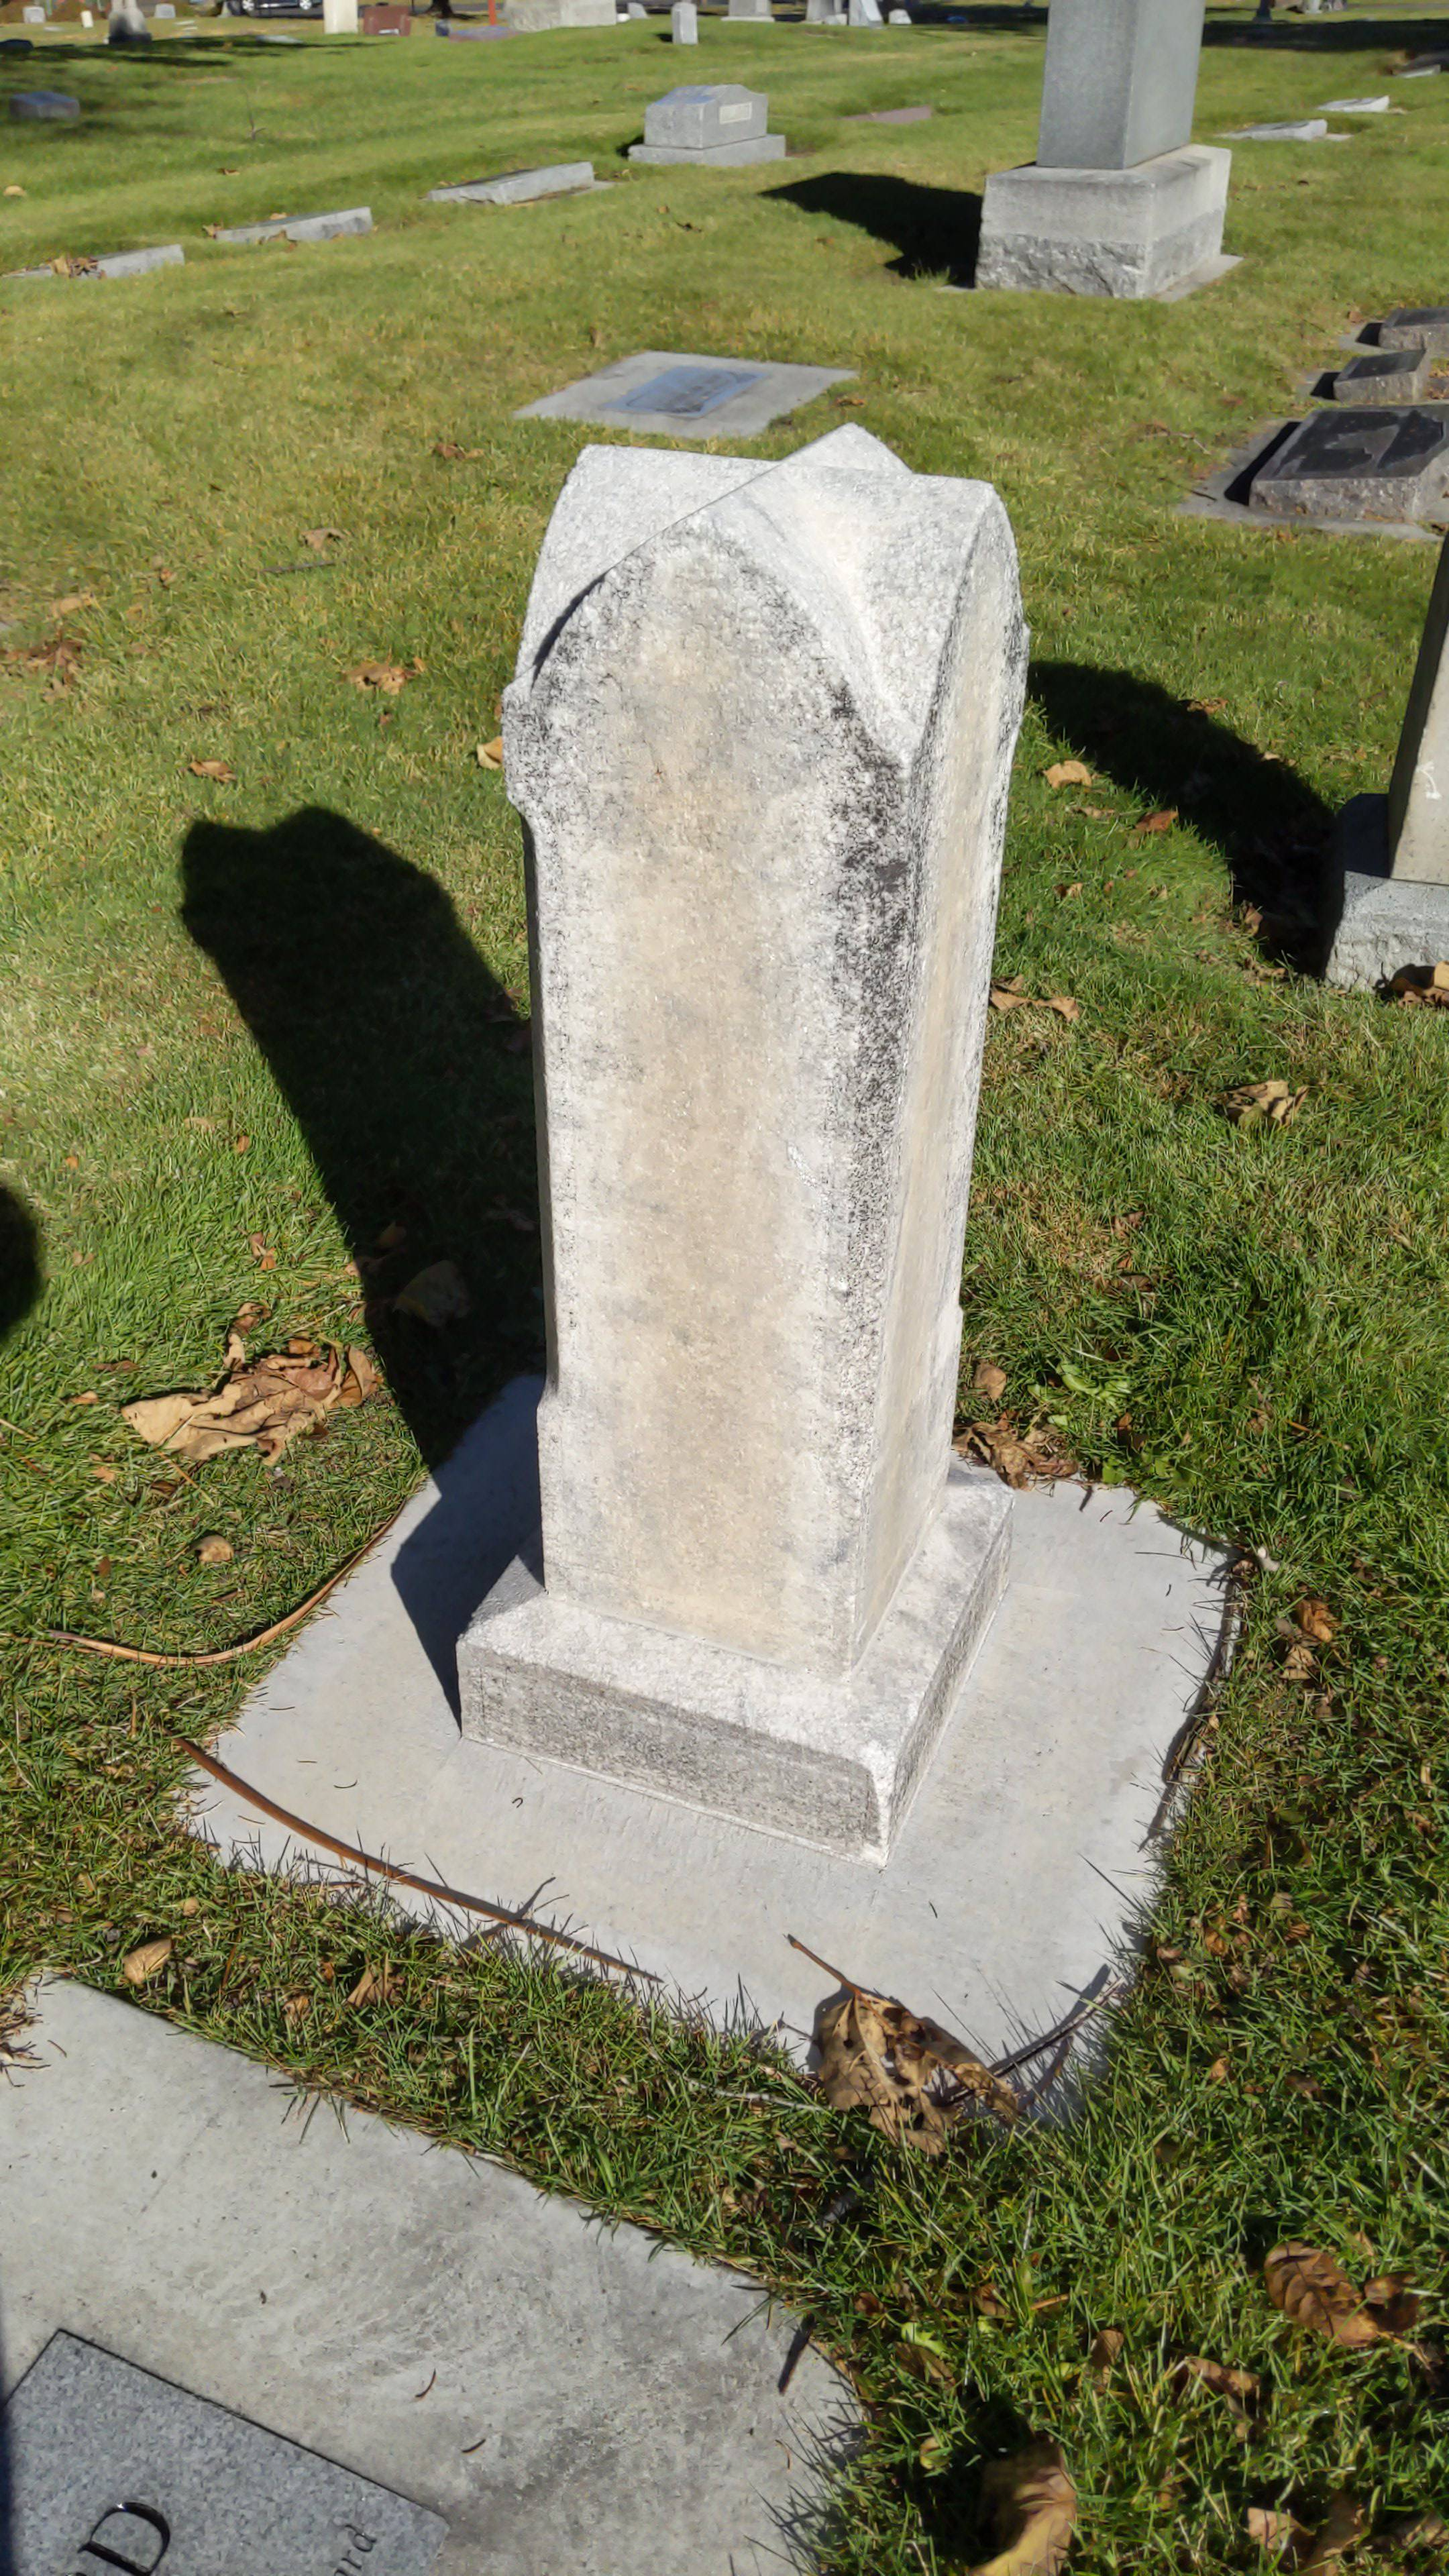obelisk: (451, 423, 994, 1842)
